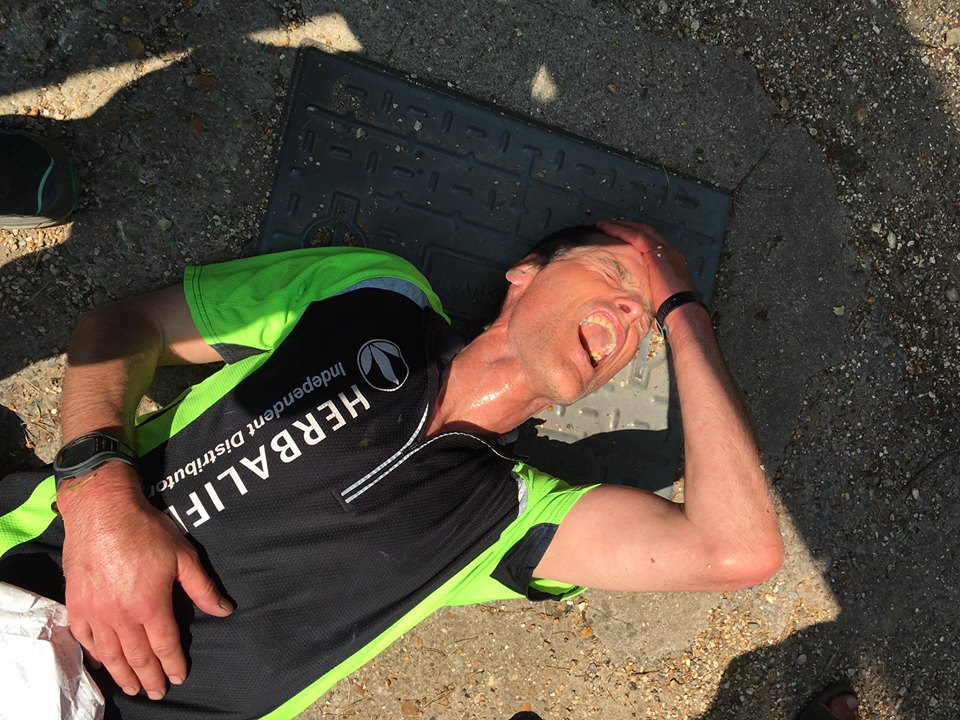collapsed: (1, 159, 840, 720)
